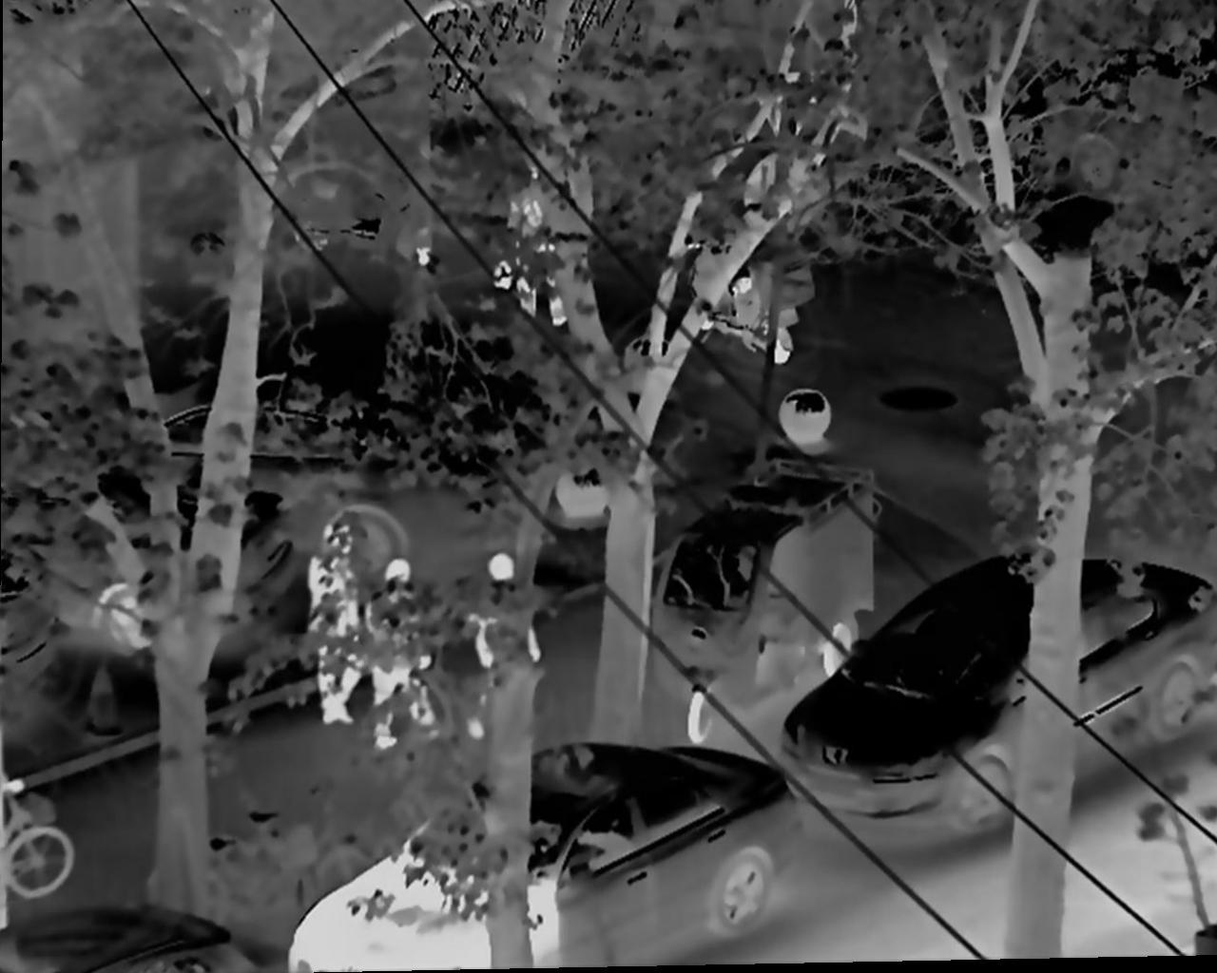person: (464, 551, 545, 765), (363, 551, 443, 753), (308, 520, 366, 735)
